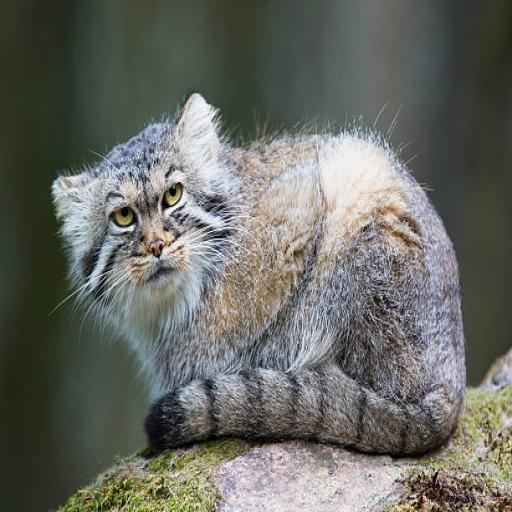manul: (52, 93, 465, 453)
